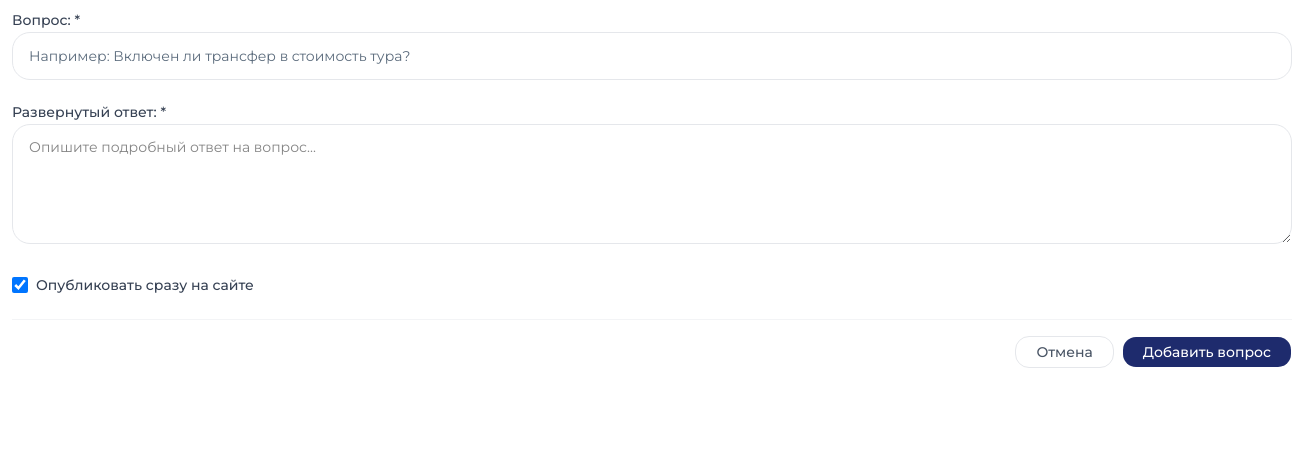
Test: FaqForm › обработка ошибок сервера › показывает общую ошибку сервера
Type "Вопрос?" into the field with placeholder "Например: Включен ли трансфер в стоимость тура?" at point(652, 56), box [12, 32, 1292, 80]
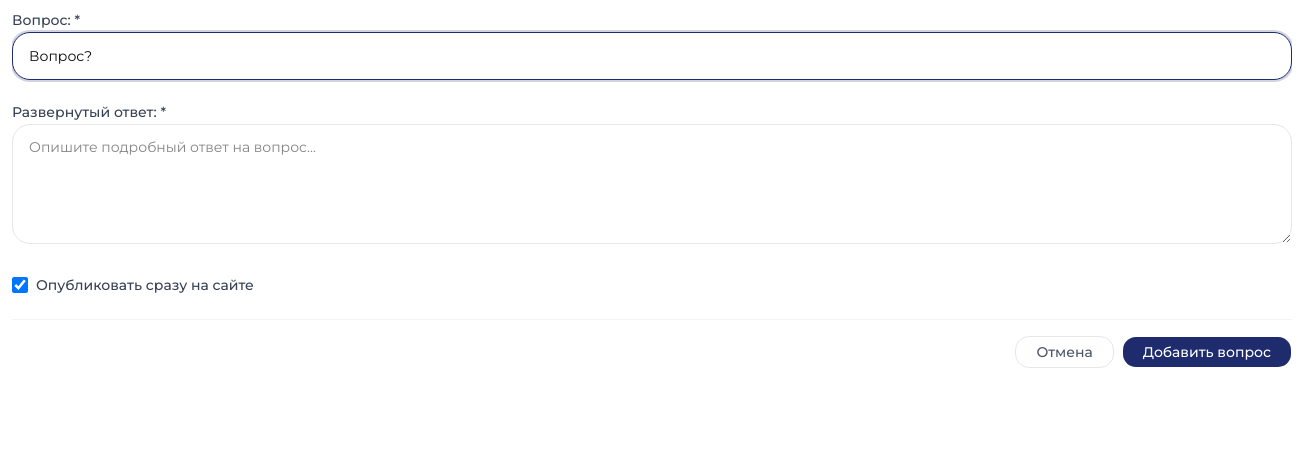
Type "Ответ" into the text box with placeholder "Опишите подробный ответ на вопрос..." at point(652, 184), box [12, 124, 1292, 244]
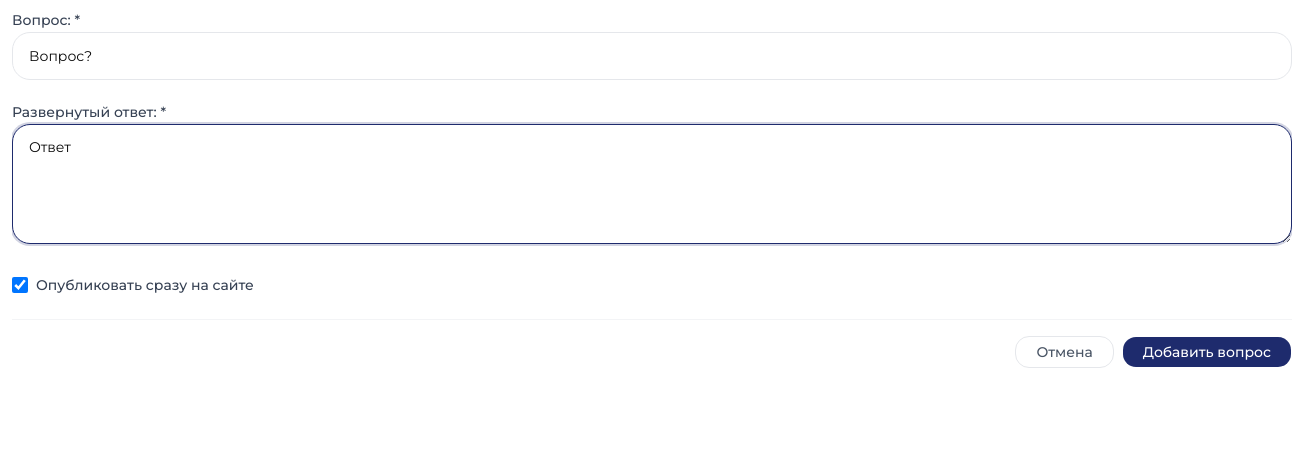
Click the button "Добавить вопрос" at point(1207, 352), box [1122, 336, 1292, 368]
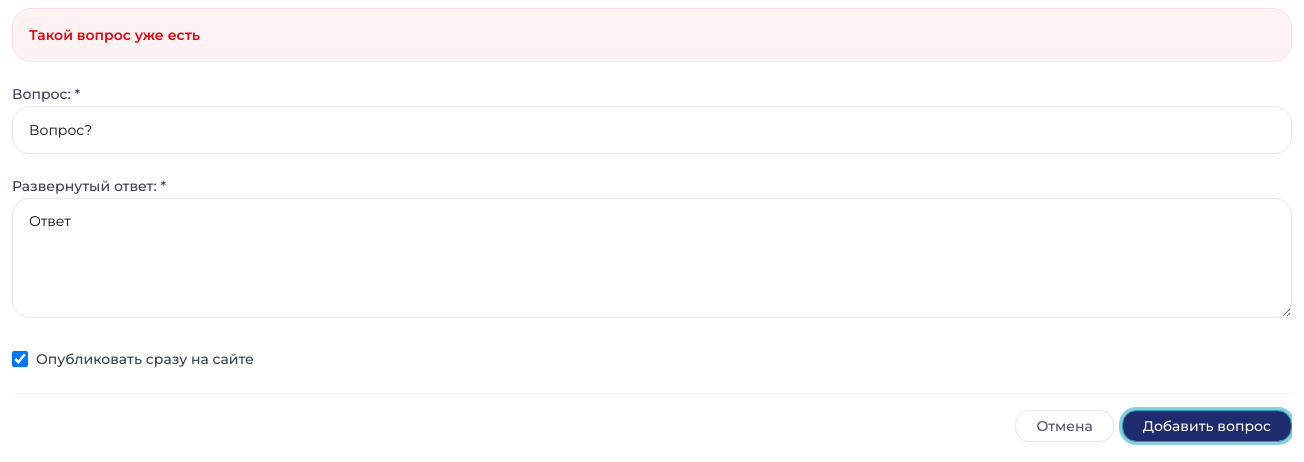
Check: the text "Такой вопрос уже есть" is shown, box [12, 8, 1292, 62]
